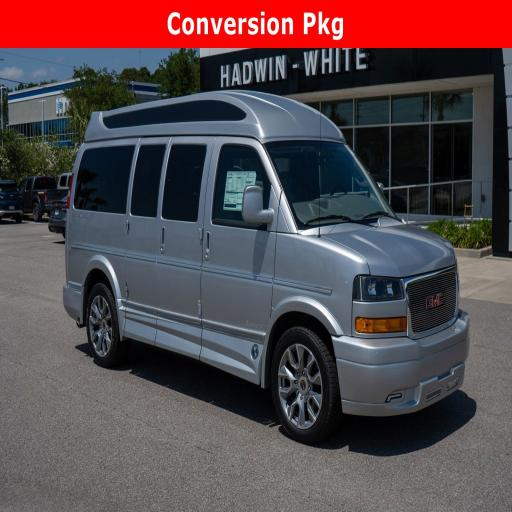van: (63, 92, 468, 441)
